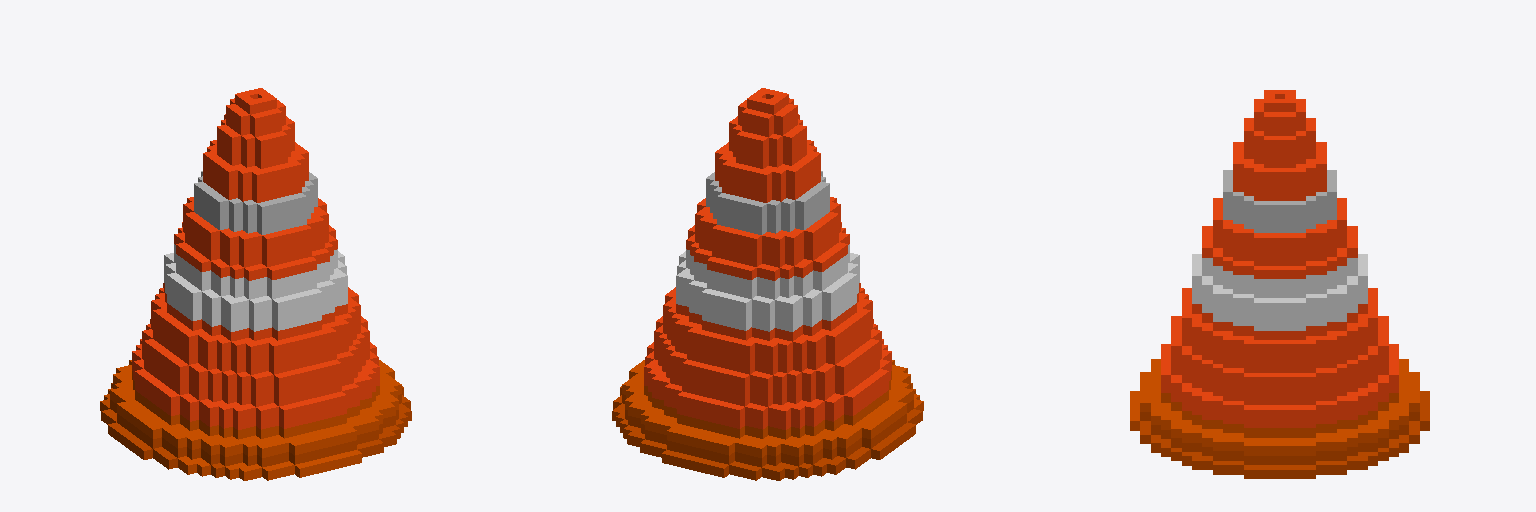
3 views of the same model, side by side, from view 1: azimuth 30°, elevation 25°; view 2: azimuth 150°, elevation 25°; view 3: azimuth 270°, elevation 25° (orthographic).
Parts seen in each view (by area): view 1: trafficCone; view 2: trafficCone; view 3: trafficCone.
Boxes of the visible parts, <box> form: trafficCone: <box>100,88,411,480</box>; trafficCone: <box>612,88,923,480</box>; trafficCone: <box>1130,90,1429,478</box>.
Bounding box in the file's own units: 29 × 34 × 29.
Materials: 1 (1 with a texture image).